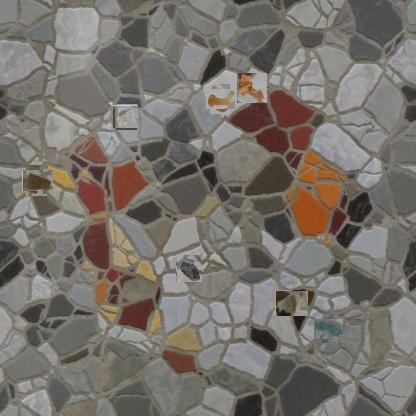dirty: (237, 73, 267, 103), (275, 290, 308, 316), (24, 167, 51, 194), (176, 254, 202, 282), (113, 105, 138, 129)
liquid: (316, 316, 340, 342), (208, 87, 232, 111)
